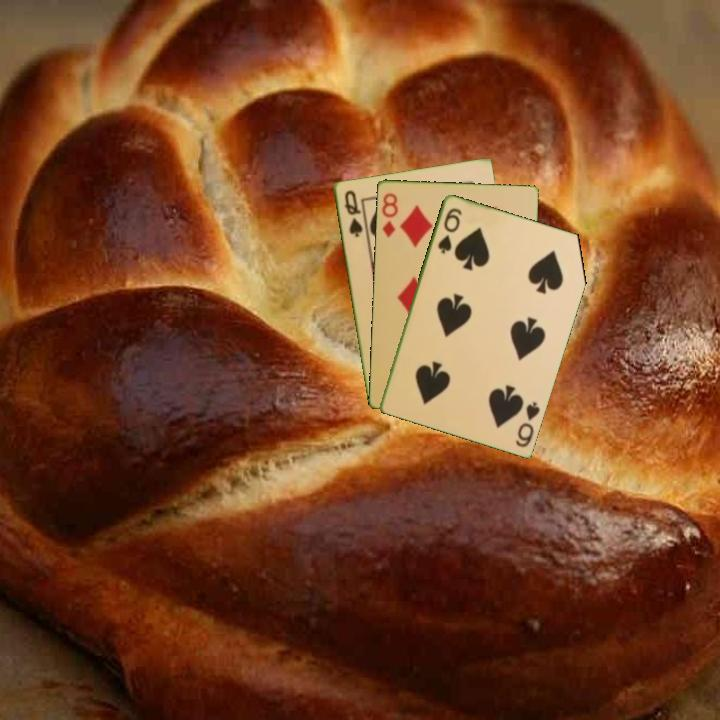6s: (511, 398, 543, 450), (434, 204, 465, 256)
8d: (378, 189, 400, 240)
Qs: (341, 186, 365, 240)
